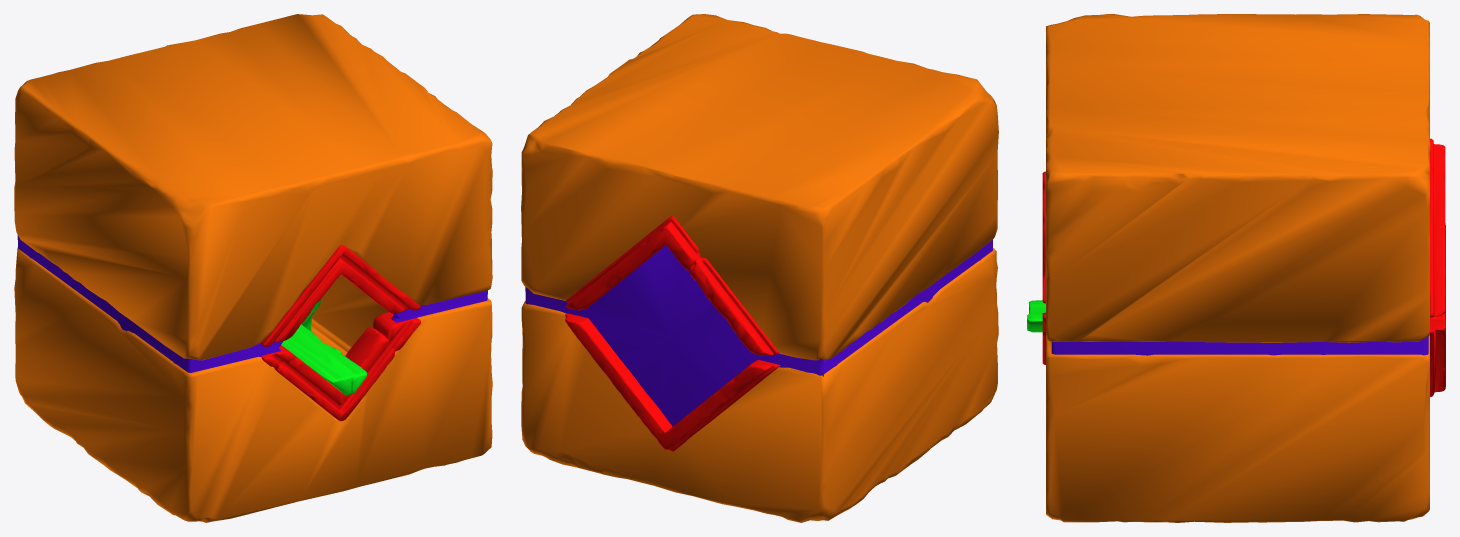
The model's file is SM_Tomb.FBX.
3 views of the same model, side by side, from view 1: azimuth 30°, elevation 25°; view 2: azimuth 150°, elevation 25°; view 3: azimuth 270°, elevation 25° (orthographic). The views are drawn at different scales.
Parts seen in each view (by area): view 1: SM_tomb_shell, SM_tomb_bridge2, SM_tomb_bridge; view 2: SM_tomb_shell; view 3: SM_tomb_shell.
Boxes of the visible parts, <box> form: SM_tomb_shell: <box>14,14,492,522</box>; SM_tomb_bridge2: <box>281,324,367,395</box>; SM_tomb_bridge: <box>281,325,361,395</box>; SM_tomb_shell: <box>521,14,998,522</box>; SM_tomb_shell: <box>1042,14,1445,522</box>.
Size of the model in its own units: 2201 by 2201 by 2399.
